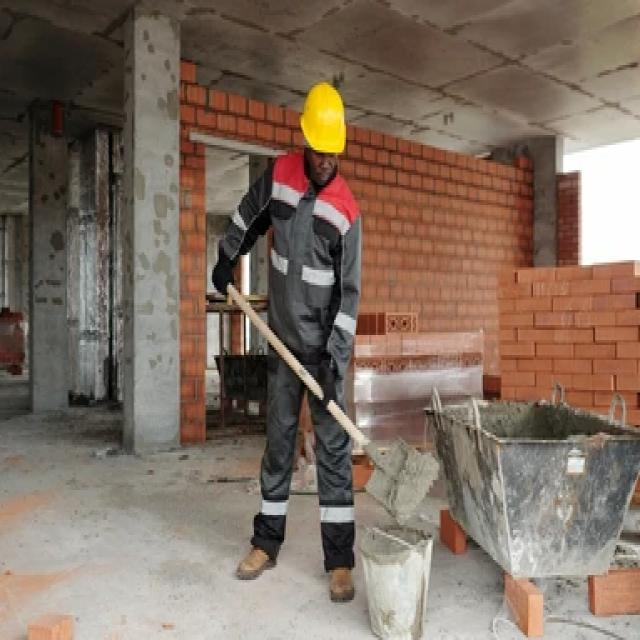hard_hat: (298, 80, 348, 186)
shoes: (233, 530, 357, 604)
